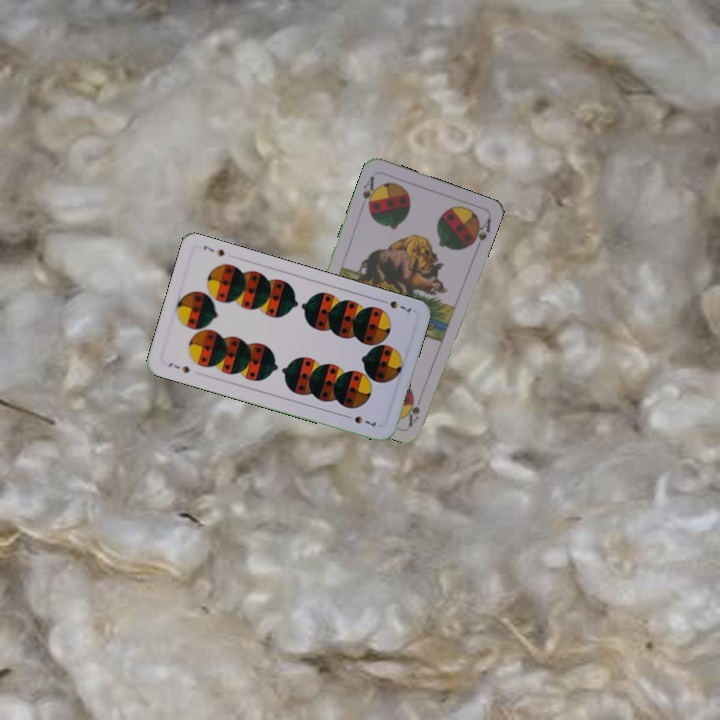S7: (376, 295, 414, 315), (164, 358, 192, 376)
SA: (357, 172, 380, 212), (404, 394, 423, 429)
